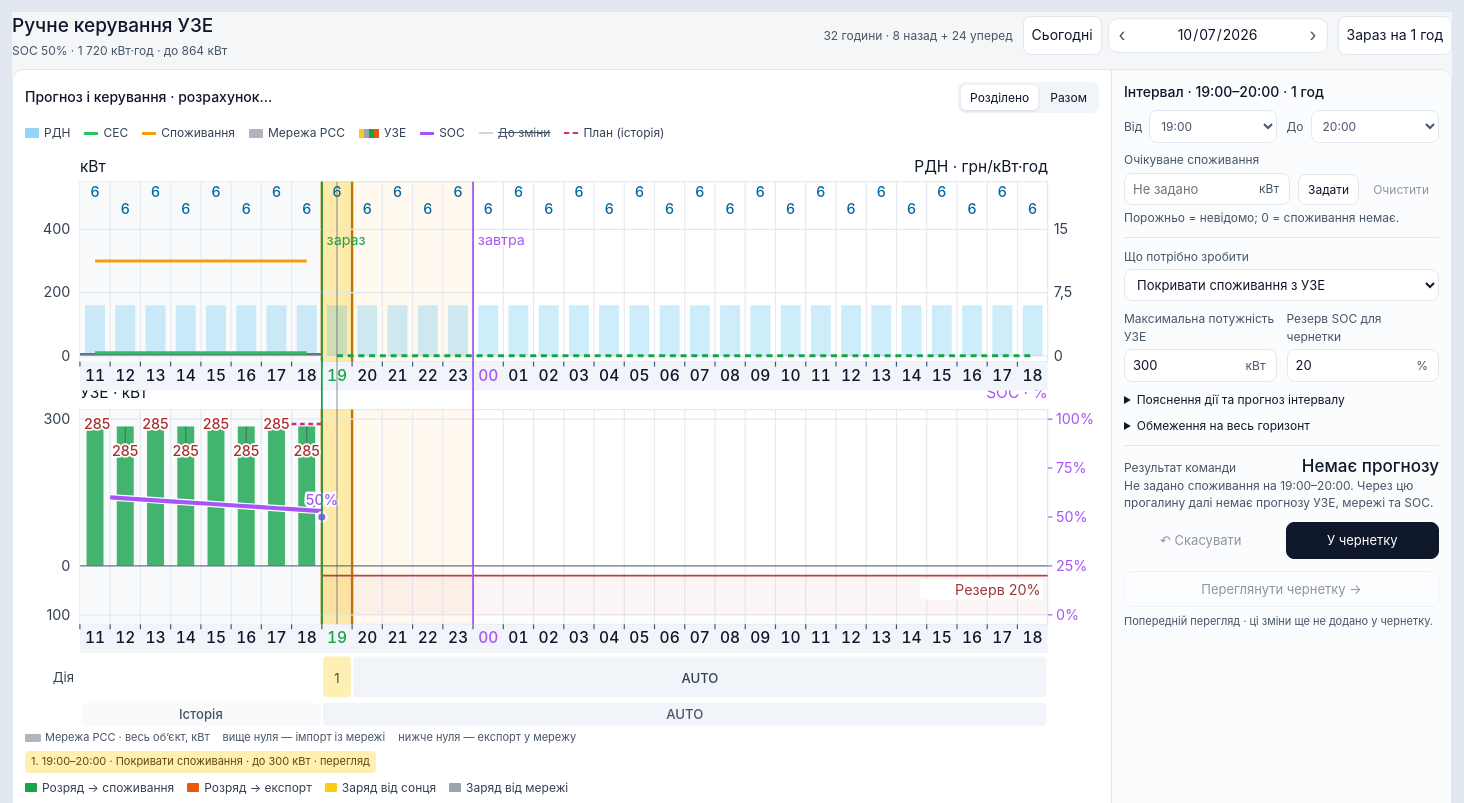
Scenario: DispatchDesk › blocks «У чернетку» on an invalid command without a round trip
Expected: the heading "Ручне керування УЗЕ" is shown, left=12, top=12, right=227, bottom=40
Replace the text in the number field showing "300" with "900" at (1181, 365), box left=1125, top=350, right=1238, bottom=381
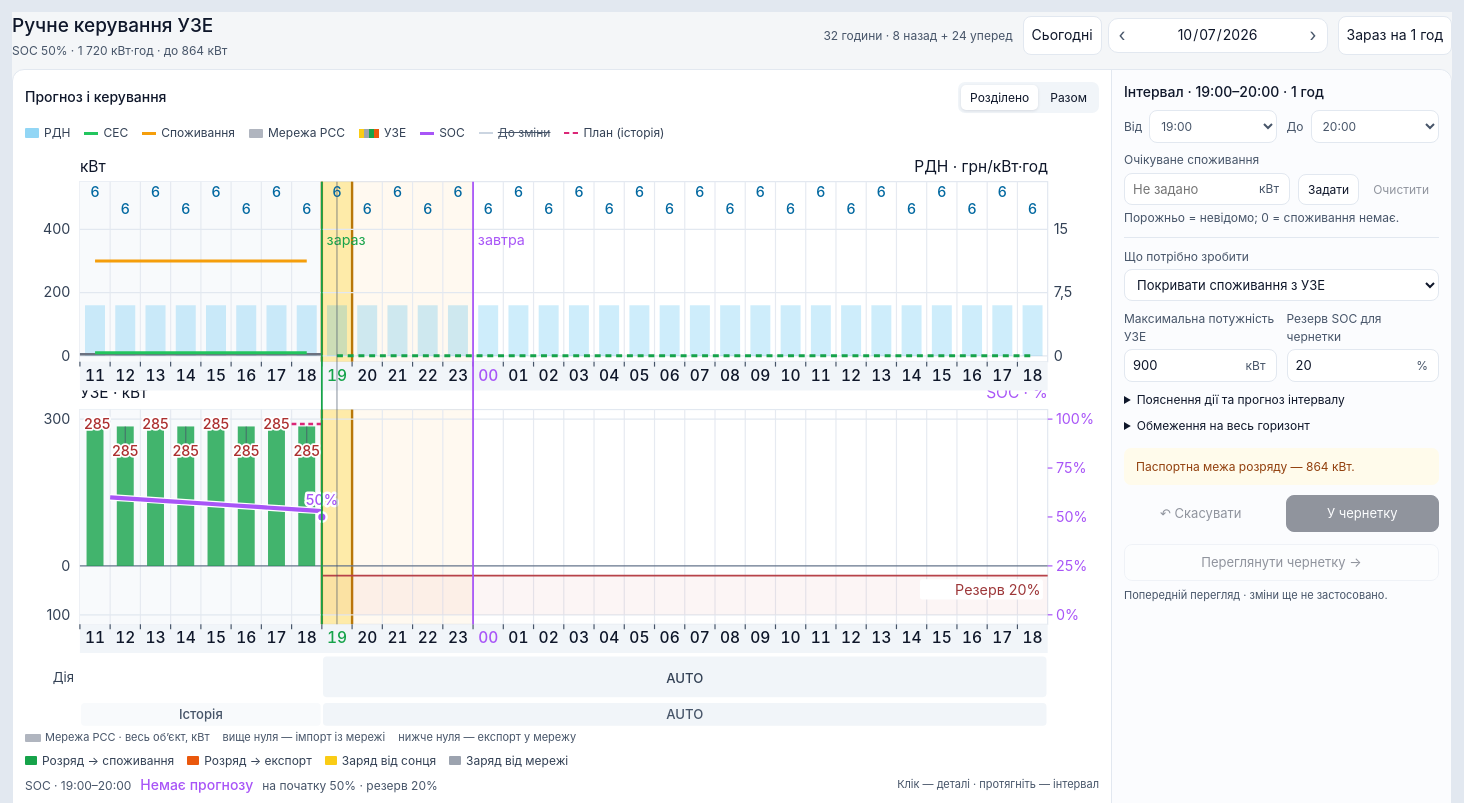
Expected: the text "Паспортна межа розряду — 864 кВт." is shown, left=1124, top=448, right=1439, bottom=485
Expected: the button "У чернетку" is disabled, left=1286, top=495, right=1439, bottom=532
